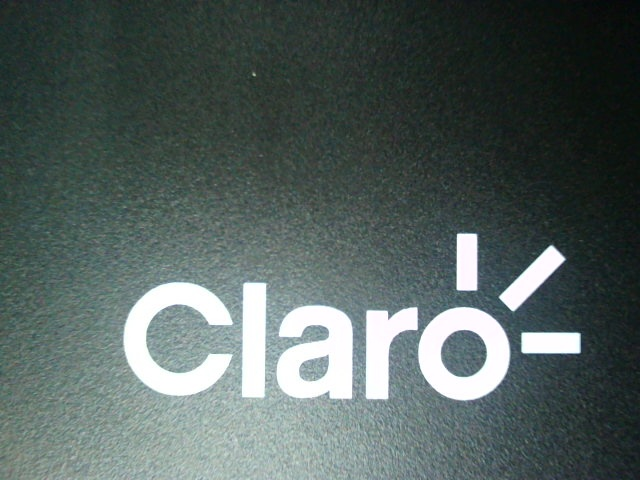BC_Claor: (117, 229, 582, 413)
